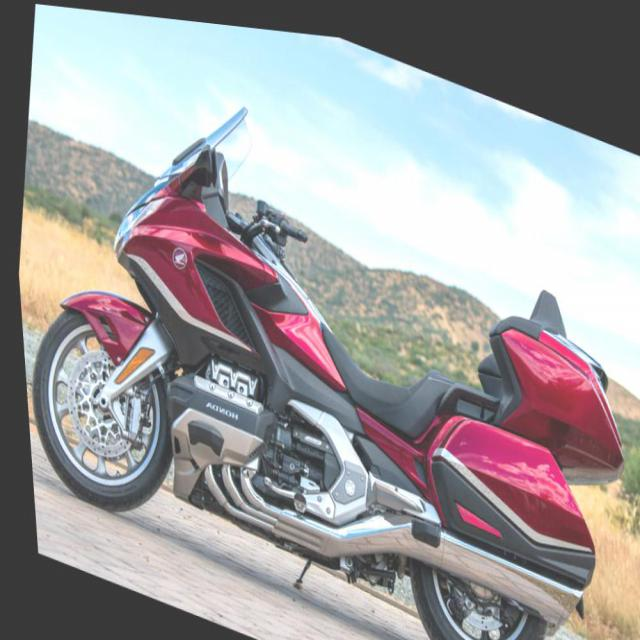Gold Wing: (1, 22, 639, 639)
